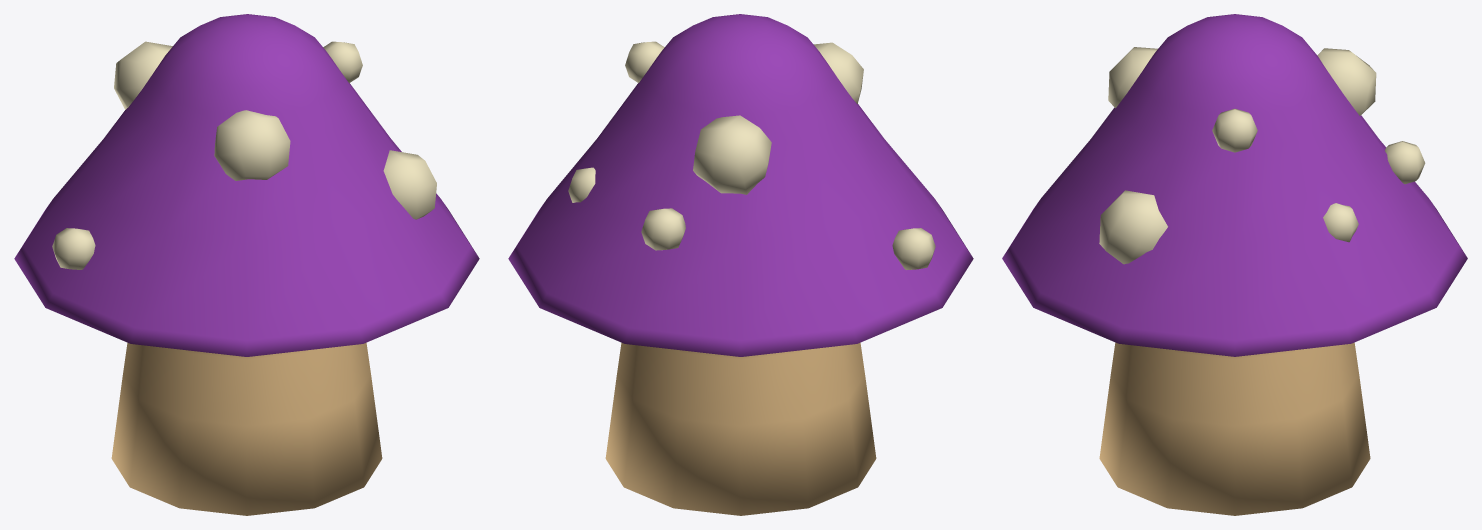
Rendered from mushroom.fbx.
The picture shows the model from 3 angles, left to right: view 1: azimuth 30°, elevation 25°; view 2: azimuth 150°, elevation 25°; view 3: azimuth 270°, elevation 25°; orthographic projection.
Parts seen in each view (by area): view 1: Purple_poisonous_mushroom; view 2: Purple_poisonous_mushroom; view 3: Purple_poisonous_mushroom.
Part boxes in pixels (left/top/right/bottom): Purple_poisonous_mushroom: left=14, top=14, right=479, bottom=515; Purple_poisonous_mushroom: left=508, top=14, right=973, bottom=515; Purple_poisonous_mushroom: left=1002, top=14, right=1467, bottom=515.
Size of the model in its own units: 21.01 by 21.66 by 21.01.
